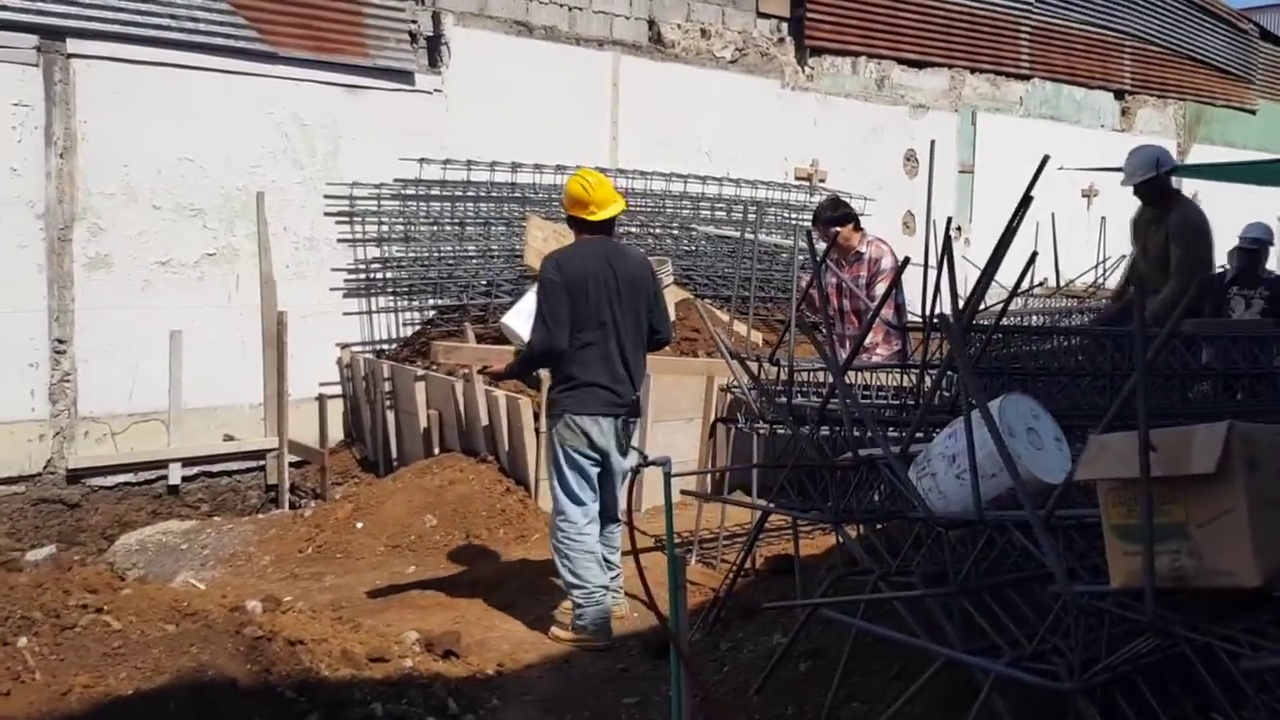helmet: (560, 169, 627, 227), (1119, 141, 1183, 189), (1237, 224, 1274, 250)
helmet-off: (809, 195, 861, 259)
helmet-on: (556, 164, 630, 251), (1118, 140, 1185, 213), (1229, 223, 1274, 277)
person: (472, 146, 674, 649), (1111, 138, 1216, 323), (798, 197, 905, 361), (1215, 221, 1280, 352)
